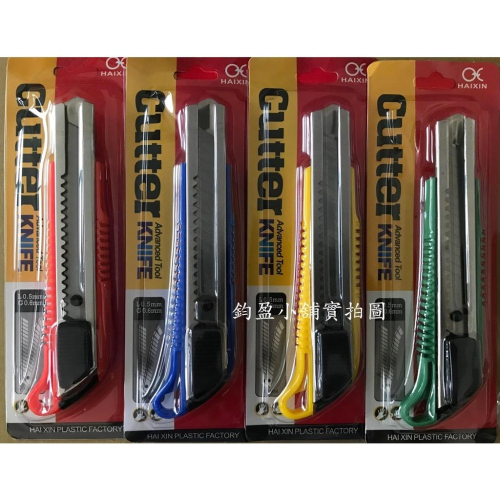cutter: (152, 96, 234, 419), (26, 97, 108, 416), (278, 103, 360, 419), (400, 113, 481, 428)
